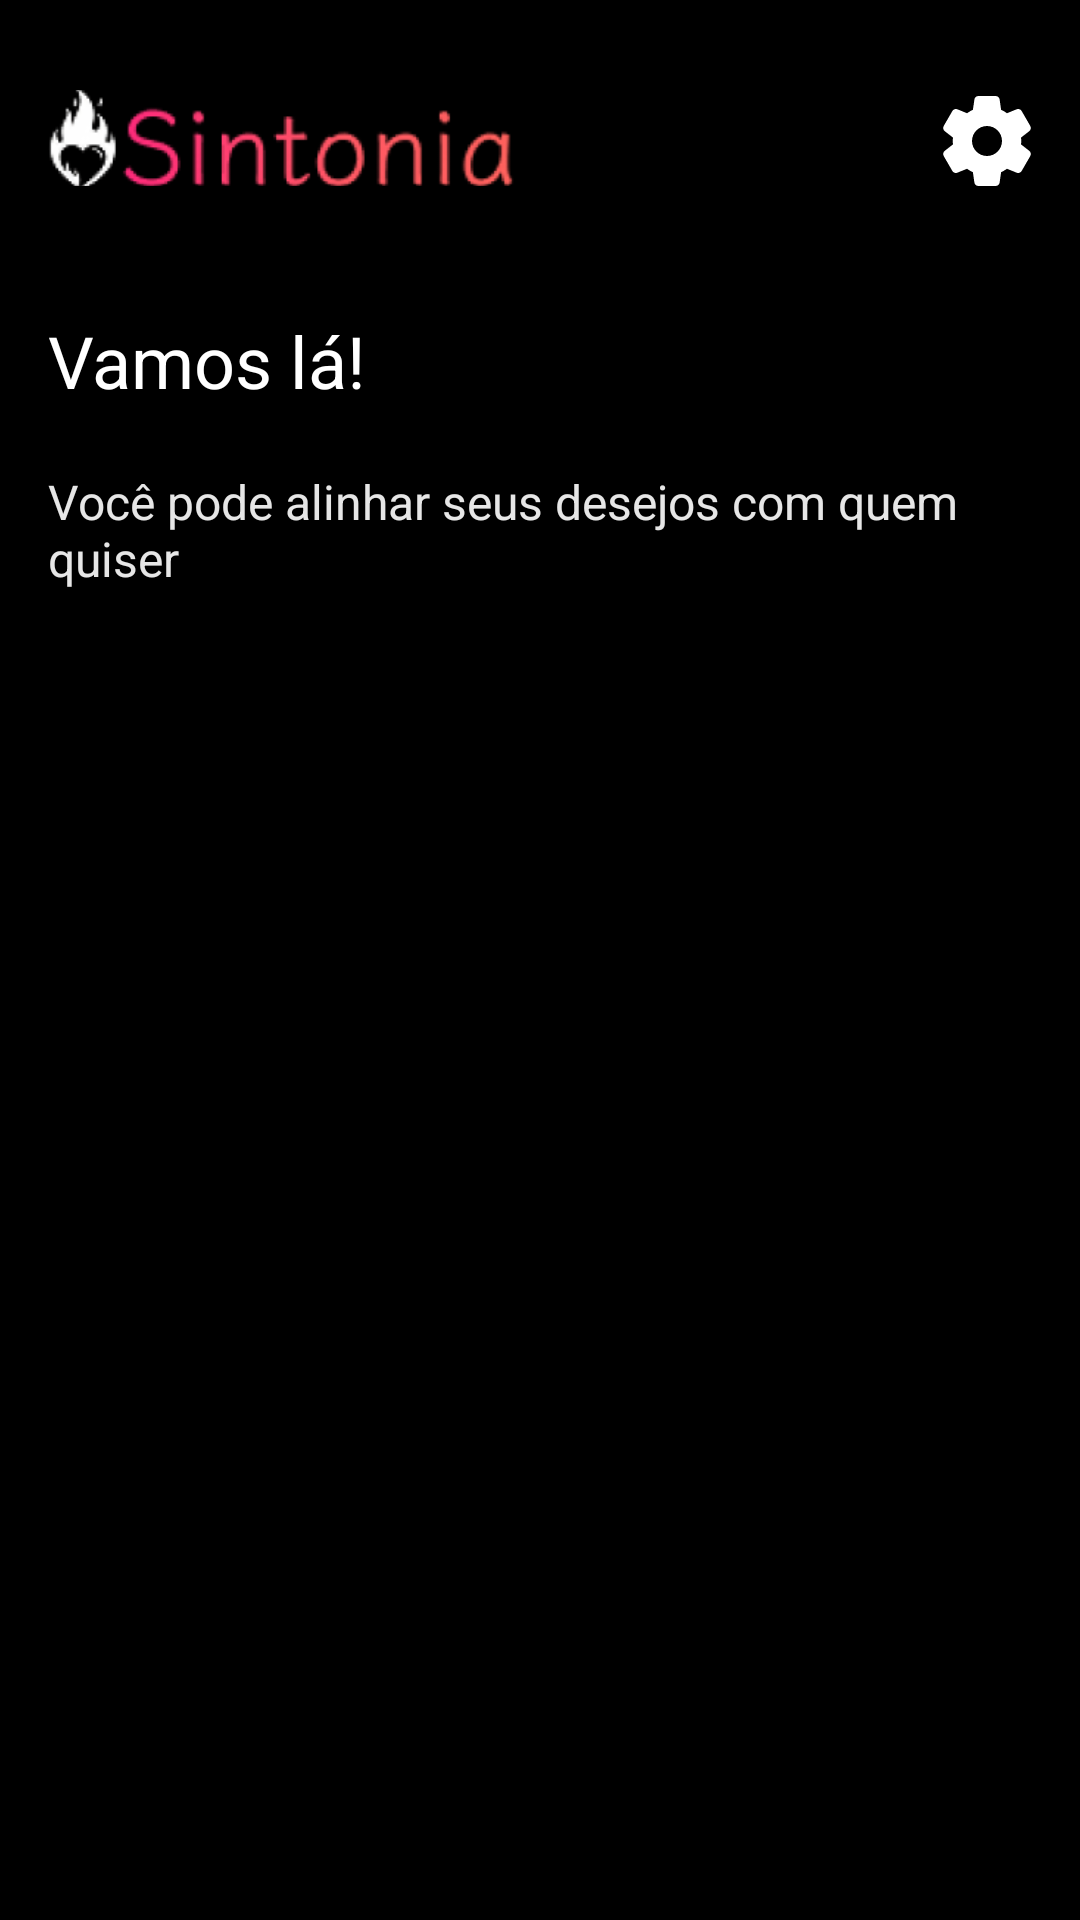

Icon click points for this 1080*1920 phone screenshot, format (x=x, y=y):
gear: (x=987, y=141)
